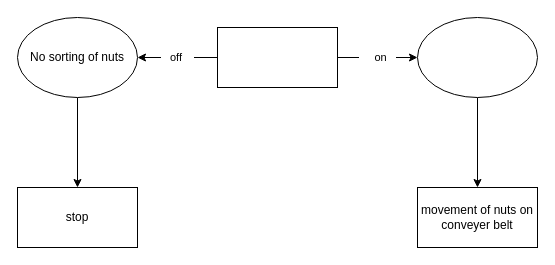
This 555x265 diagram has some shape labels left out. Each missing label, with the box of its shape:
Servo motor: (216, 26, 338, 88)
Sorting of nuts: (416, 16, 538, 98)
